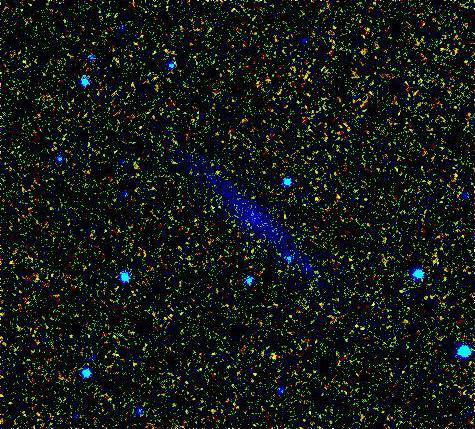star: (277, 247, 307, 277)
